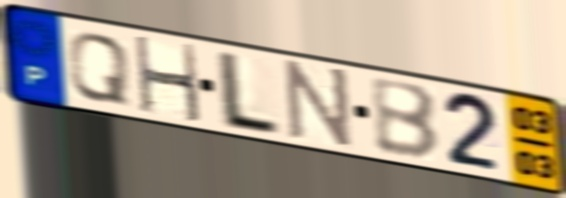2: (441, 88, 509, 181)
B: (367, 77, 443, 163)
H: (131, 33, 205, 126)
L: (216, 48, 283, 139)
N: (284, 57, 355, 154)
Q: (65, 31, 132, 108)
